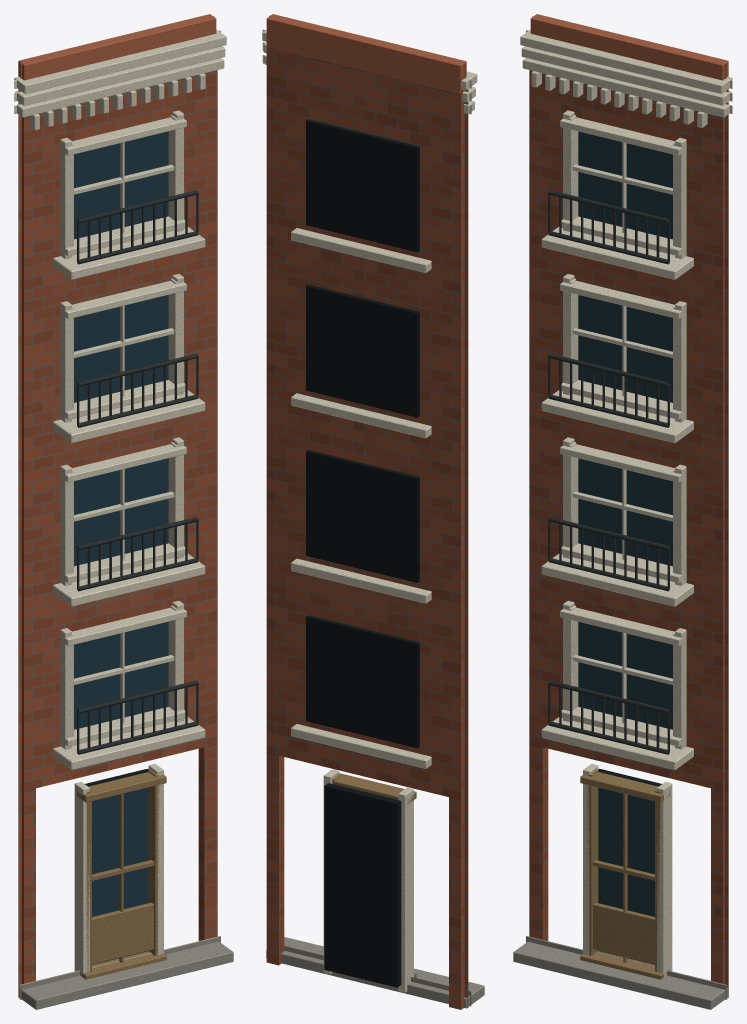
Rendered from OFFC22_lod1.glb.
3 renders of one model, left to right at view 1: azimuth 30°, elevation 25°; view 2: azimuth 150°, elevation 25°; view 3: azimuth 330°, elevation 25°, orthographic.
Parts seen in each view (by area): view 1: OFFC22_FRONT_LOD1; view 2: OFFC22_FRONT_LOD1; view 3: OFFC22_FRONT_LOD1.
Boxes of the visible parts, bbox=[...] form: OFFC22_FRONT_LOD1: bbox=[14, 14, 233, 1009]; OFFC22_FRONT_LOD1: bbox=[262, 14, 484, 1009]; OFFC22_FRONT_LOD1: bbox=[513, 14, 732, 1009].
Size of the model in its own units: 3.44 by 14.86 by 0.8592.
Materials: 9 (7 with a texture image).
